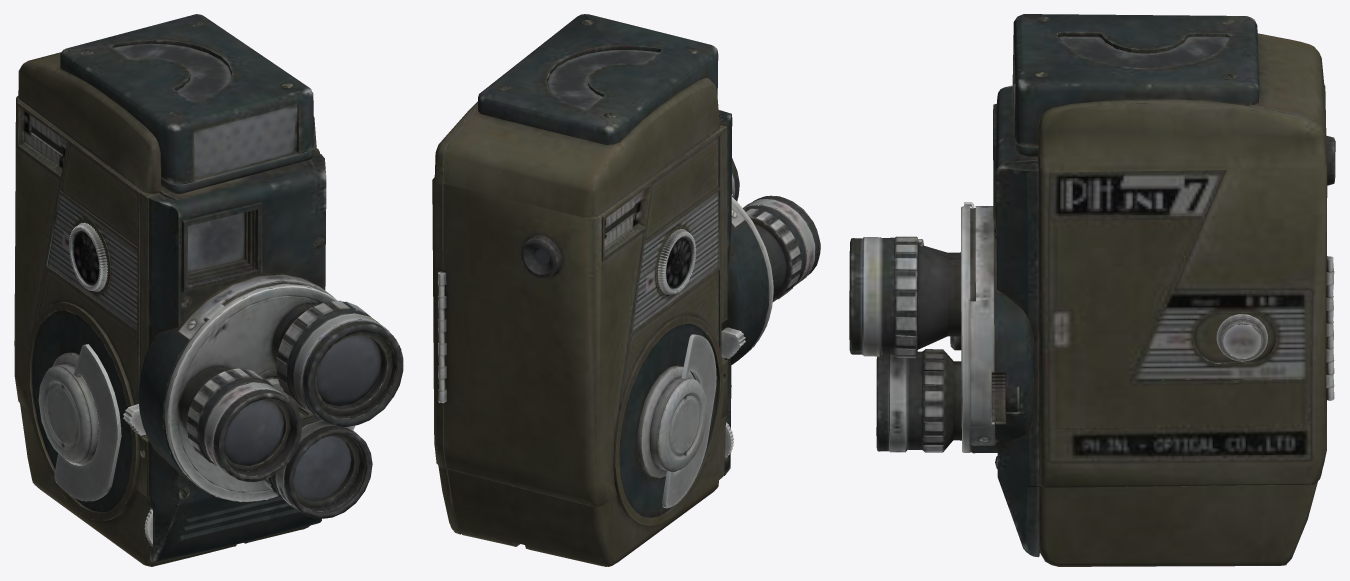
File: ph_vintage_video_camera.glb
3 renders of one model, left to right at view 1: azimuth 30°, elevation 25°; view 2: azimuth 150°, elevation 25°; view 3: azimuth 270°, elevation 25°, orthographic. The views are drawn at different scales.
Visible parts, largest first — view 1: vintage_video_camera; view 2: vintage_video_camera; view 3: vintage_video_camera.
Part boxes in pixels (x1=…): vintage_video_camera: x1=14, y1=14, x2=403, y2=566; vintage_video_camera: x1=432, y1=14, x2=820, y2=566; vintage_video_camera: x1=849, y1=14, x2=1335, y2=566.
Bounding box in the file's own units: 0.0712 × 0.145 × 0.1326.
Materials: 2 (2 with a texture image).
